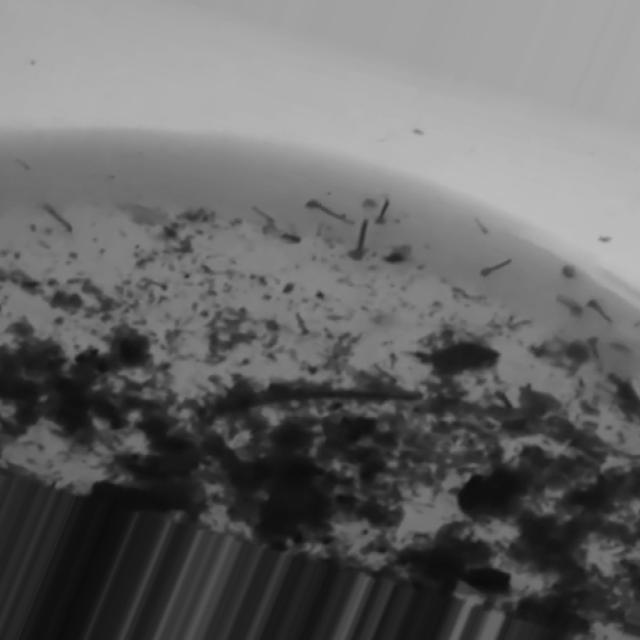larvas: (306, 194, 353, 224), (350, 217, 370, 260), (45, 204, 73, 234), (586, 296, 612, 324), (556, 294, 584, 319), (485, 256, 512, 278), (264, 226, 300, 242), (454, 286, 488, 300), (255, 204, 276, 223), (140, 276, 168, 290), (587, 333, 602, 359), (375, 200, 390, 223), (476, 216, 488, 235), (18, 154, 31, 169)
